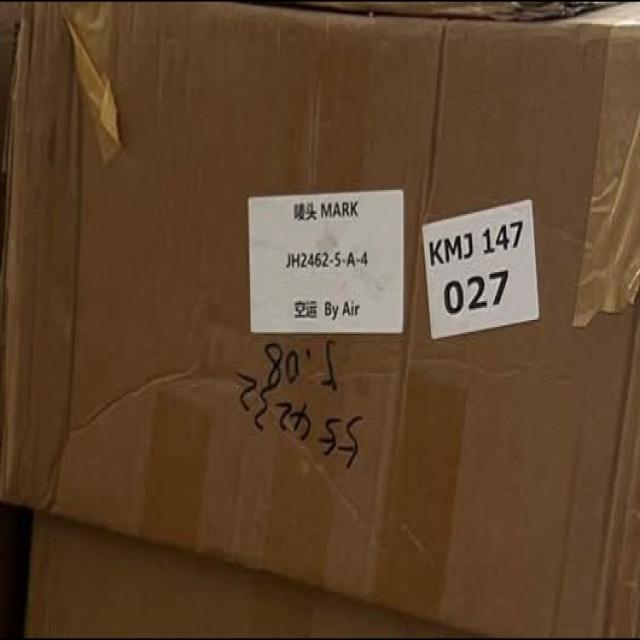carton_box: (2, 0, 640, 640)
export_mark_label: (238, 185, 418, 353)
